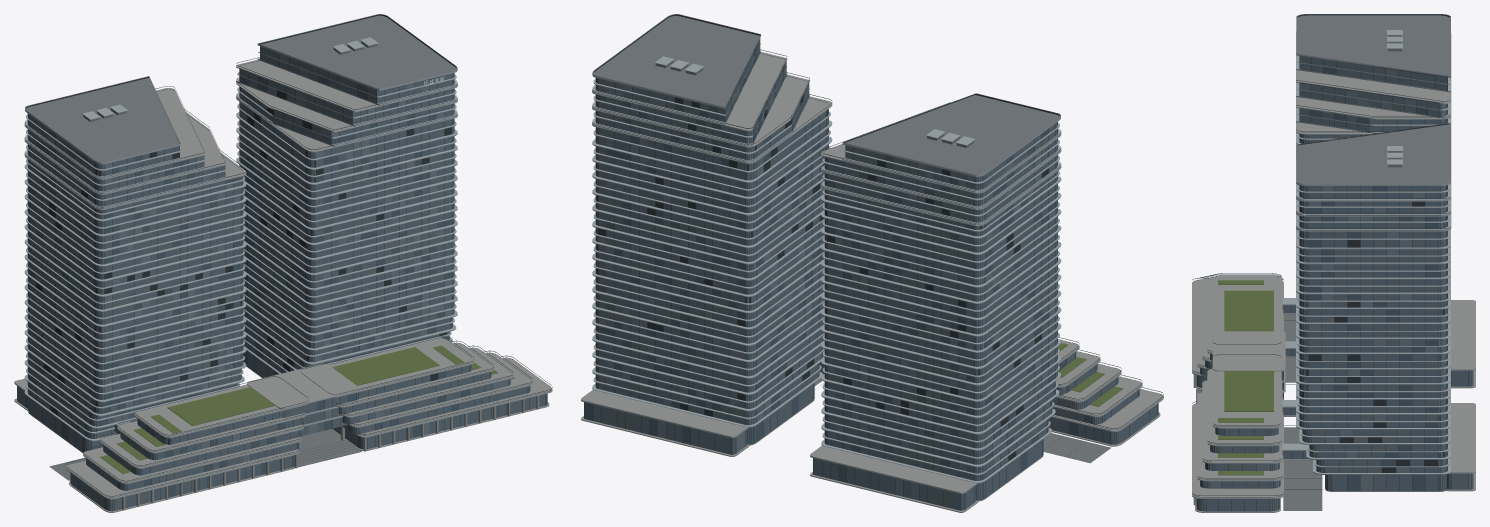
File: lvfeng-center-reflective-detail.glb
3 renders of one model, left to right at view 1: azimuth 30°, elevation 25°; view 2: azimuth 150°, elevation 25°; view 3: azimuth 270°, elevation 25°, orthographic. The views are drawn at different scales.
Visible parts, largest first — view 1: LvfengEast_Curtain wall · glazing and mullions, LvfengWest_Curtain wall · glazing and mullions, LvfengWest_Rounded aluminium fins and spandrels, LvfengEast_Rounded aluminium fins and spandrels, LvfengPodium_Tiered podium rims and glazed bridges, LvfengPodium_Shopfronts and bridge glazing, LvfengEast_Roof and three recessed terraces, LvfengWest_Roof and three recessed terraces, LvfengPodium_Planted roof and terrace beds, LvfengPodium_Entrance steps, columns and inner street; view 2: LvfengWest_Curtain wall · glazing and mullions, LvfengEast_Curtain wall · glazing and mullions, LvfengWest_Rounded aluminium fins and spandrels, LvfengEast_Rounded aluminium fins and spandrels, LvfengEast_Roof and three recessed terraces, LvfengWest_Roof and three recessed terraces, LvfengPodium_Tiered podium rims and glazed bridges, LvfengPodium_Shopfronts and bridge glazing, LvfengEast_Lobby glazing base and entrance posts, LvfengWest_Lobby glazing base and entrance posts, LvfengPodium_Entrance steps, columns and inner street, LvfengPodium_Planted roof and terrace beds; view 3: LvfengEast_Curtain wall · glazing and mullions, LvfengEast_Rounded aluminium fins and spandrels, LvfengPodium_Tiered podium rims and glazed bridges, LvfengWest_Roof and three recessed terraces, LvfengEast_Roof and three recessed terraces, LvfengWest_Curtain wall · glazing and mullions, LvfengPodium_Planted roof and terrace beds, LvfengPodium_Shopfronts and bridge glazing, LvfengWest_Rounded aluminium fins and spandrels, LvfengPodium_Entrance steps, columns and inner street, LvfengEast_Lobby glazing base and entrance posts, LvfengWest_Lobby glazing base and entrance posts.
Part boxes in pixels (x1,y1,x2,y2): LvfengEast_Curtain wall · glazing and mullions: (239, 46, 454, 377); LvfengWest_Curtain wall · glazing and mullions: (17, 114, 243, 452); LvfengWest_Rounded aluminium fins and spandrels: (24, 76, 246, 441); LvfengEast_Rounded aluminium fins and spandrels: (236, 14, 457, 373); LvfengPodium_Tiered podium rims and glazed bridges: (65, 335, 552, 499); LvfengPodium_Shopfronts and bridge glazing: (70, 365, 547, 511); LvfengEast_Roof and three recessed terraces: (236, 15, 457, 152); LvfengWest_Roof and three recessed terraces: (24, 77, 246, 209); LvfengPodium_Planted roof and terrace beds: (100, 345, 514, 473); LvfengPodium_Entrance steps, columns and inner street: (49, 395, 549, 512); LvfengWest_Curtain wall · glazing and mullions: (813, 122, 1057, 510); LvfengEast_Curtain wall · glazing and mullions: (584, 38, 828, 454); LvfengWest_Rounded aluminium fins and spandrels: (821, 93, 1061, 483); LvfengEast_Rounded aluminium fins and spandrels: (592, 14, 832, 427); LvfengEast_Roof and three recessed terraces: (592, 16, 832, 163); LvfengWest_Roof and three recessed terraces: (821, 95, 1061, 226); LvfengPodium_Tiered podium rims and glazed bridges: (1051, 337, 1163, 431); LvfengPodium_Shopfronts and bridge glazing: (819, 351, 1158, 444); LvfengEast_Lobby glazing base and entrance posts: (581, 389, 813, 456); LvfengWest_Lobby glazing base and entrance posts: (810, 445, 1043, 512); LvfengPodium_Entrance steps, columns and inner street: (814, 374, 1160, 463); LvfengPodium_Planted roof and terrace beds: (1058, 343, 1123, 406); LvfengEast_Curtain wall · glazing and mullions: (1299, 185, 1473, 490); LvfengEast_Rounded aluminium fins and spandrels: (1296, 123, 1450, 474); LvfengPodium_Tiered podium rims and glazed bridges: (1192, 273, 1314, 498); LvfengWest_Roof and three recessed terraces: (1296, 15, 1451, 134); LvfengEast_Roof and three recessed terraces: (1296, 124, 1451, 231); LvfengWest_Curtain wall · glazing and mullions: (1299, 56, 1473, 386); LvfengPodium_Planted roof and terrace beds: (1218, 280, 1273, 475); LvfengPodium_Shopfronts and bridge glazing: (1196, 305, 1308, 511); LvfengWest_Rounded aluminium fins and spandrels: (1296, 14, 1450, 148); LvfengPodium_Entrance steps, columns and inner street: (1193, 315, 1322, 512); LvfengEast_Lobby glazing base and entrance posts: (1325, 403, 1475, 491); LvfengWest_Lobby glazing base and entrance posts: (1451, 300, 1475, 388).
Bounding box in the file's own units: 1.9 × 1.27 × 1.05.
